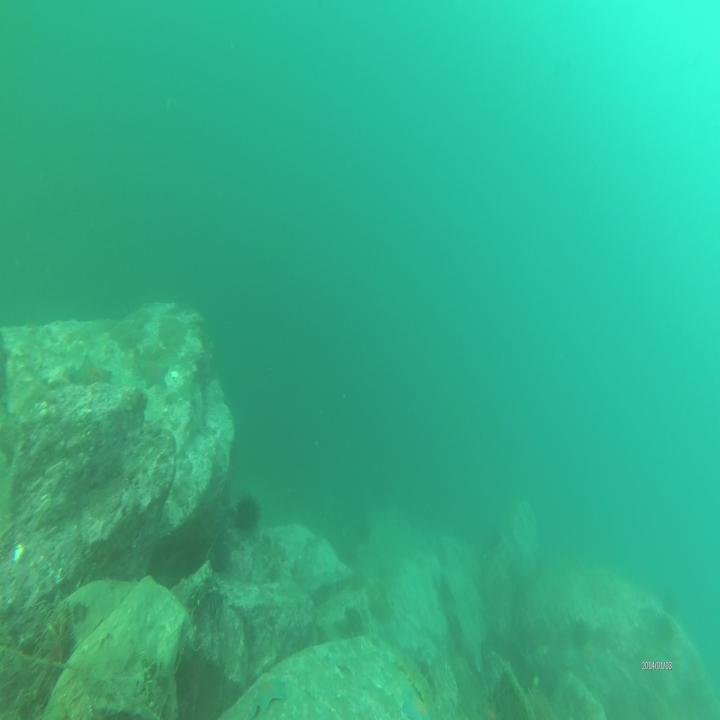echinus: (234, 494, 260, 538), (570, 616, 592, 653)
holothurian: (396, 646, 434, 704)
starfish: (68, 350, 113, 398), (246, 676, 284, 714), (401, 694, 435, 720)
